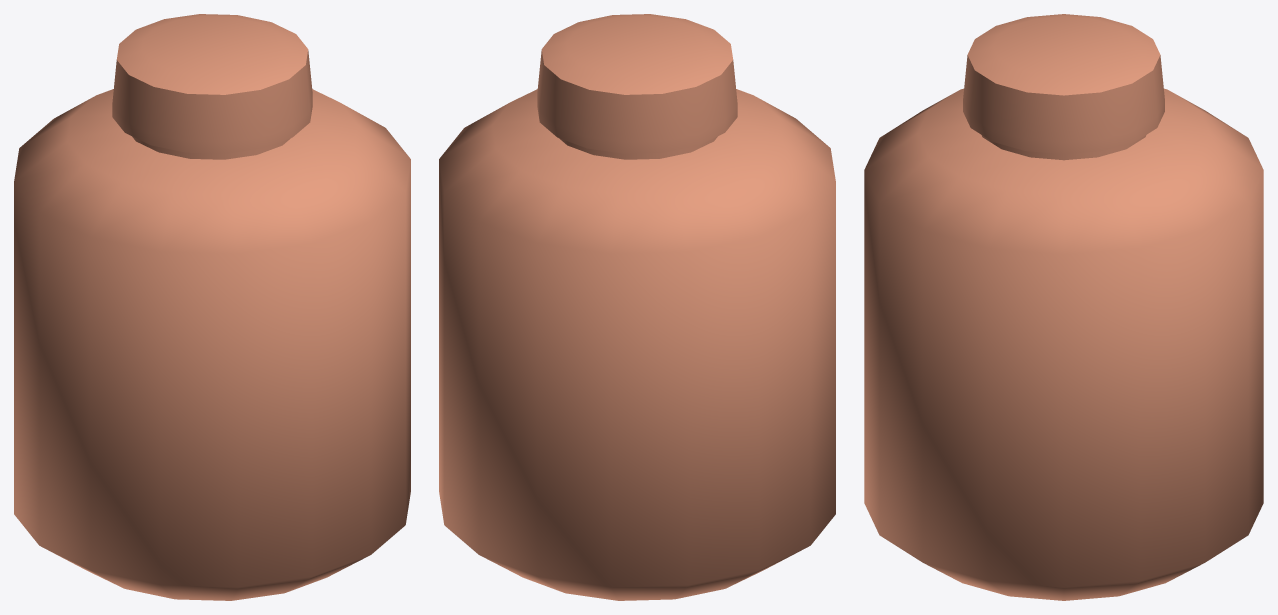
Rendered from protein.fbx.
3 views of the same model, side by side, from view 1: azimuth 30°, elevation 25°; view 2: azimuth 150°, elevation 25°; view 3: azimuth 270°, elevation 25° (orthographic).
Parts seen in each view (by area): view 1: protein; view 2: protein; view 3: protein.
Part boxes in pixels (x1,y1,x2,y2): protein: (14, 14, 410, 600); protein: (439, 14, 835, 600); protein: (864, 14, 1263, 600).
Size of the model in its own units: 40 by 54.52 by 40.
